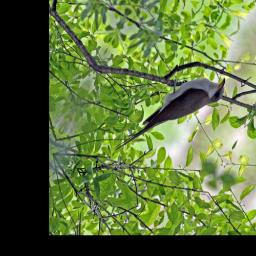Cuckoo: (113, 44, 231, 185)
